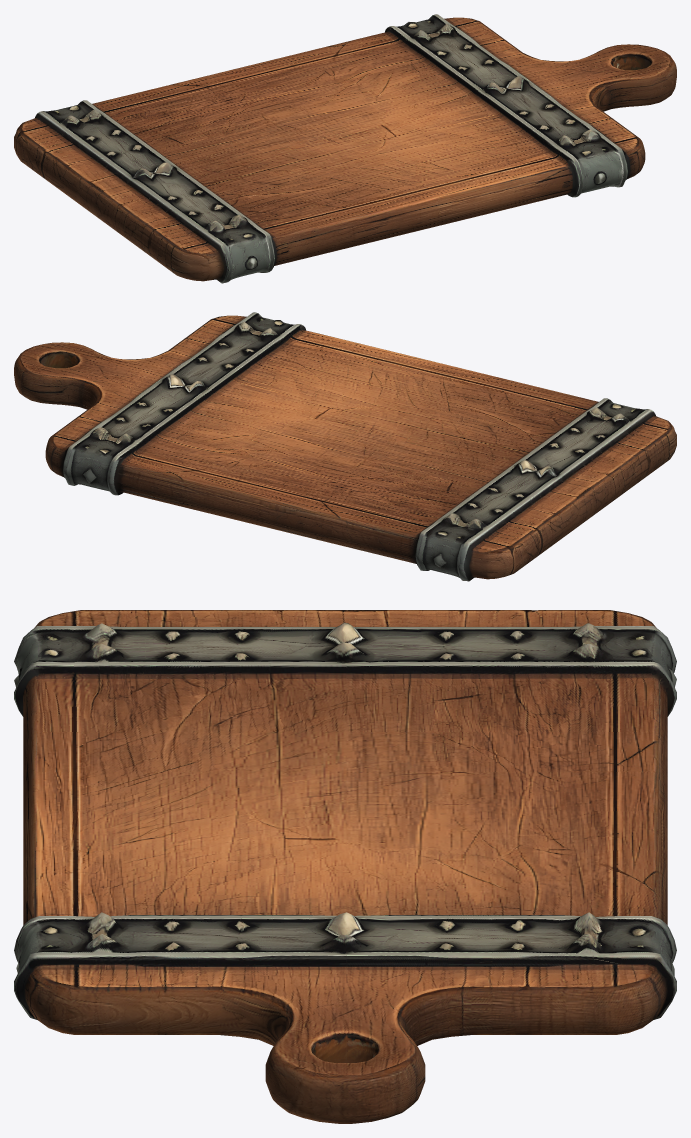
Rendered from chopping_board.fbx.
3 views of the same model, one above another, from view 1: azimuth 30°, elevation 25°; view 2: azimuth 150°, elevation 25°; view 3: azimuth 270°, elevation 25° (orthographic). The views are drawn at different scales.
Visible parts, largest first — view 1: Mesh_0.013; view 2: Mesh_0.013; view 3: Mesh_0.013.
Part boxes in pixels (<box>): Mesh_0.013: <box>14,14,676,283</box>; Mesh_0.013: <box>14,312,676,581</box>; Mesh_0.013: <box>14,610,676,1123</box>.
Size of the model in its own units: 38.12 by 3.37 by 22.47.
1 material, 1 textured.
